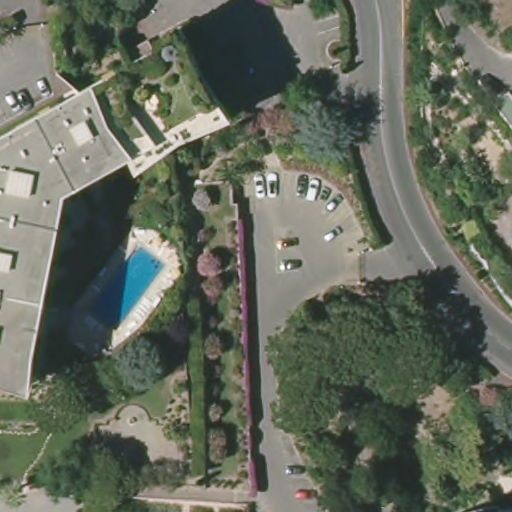pool: (81, 241, 165, 334)
